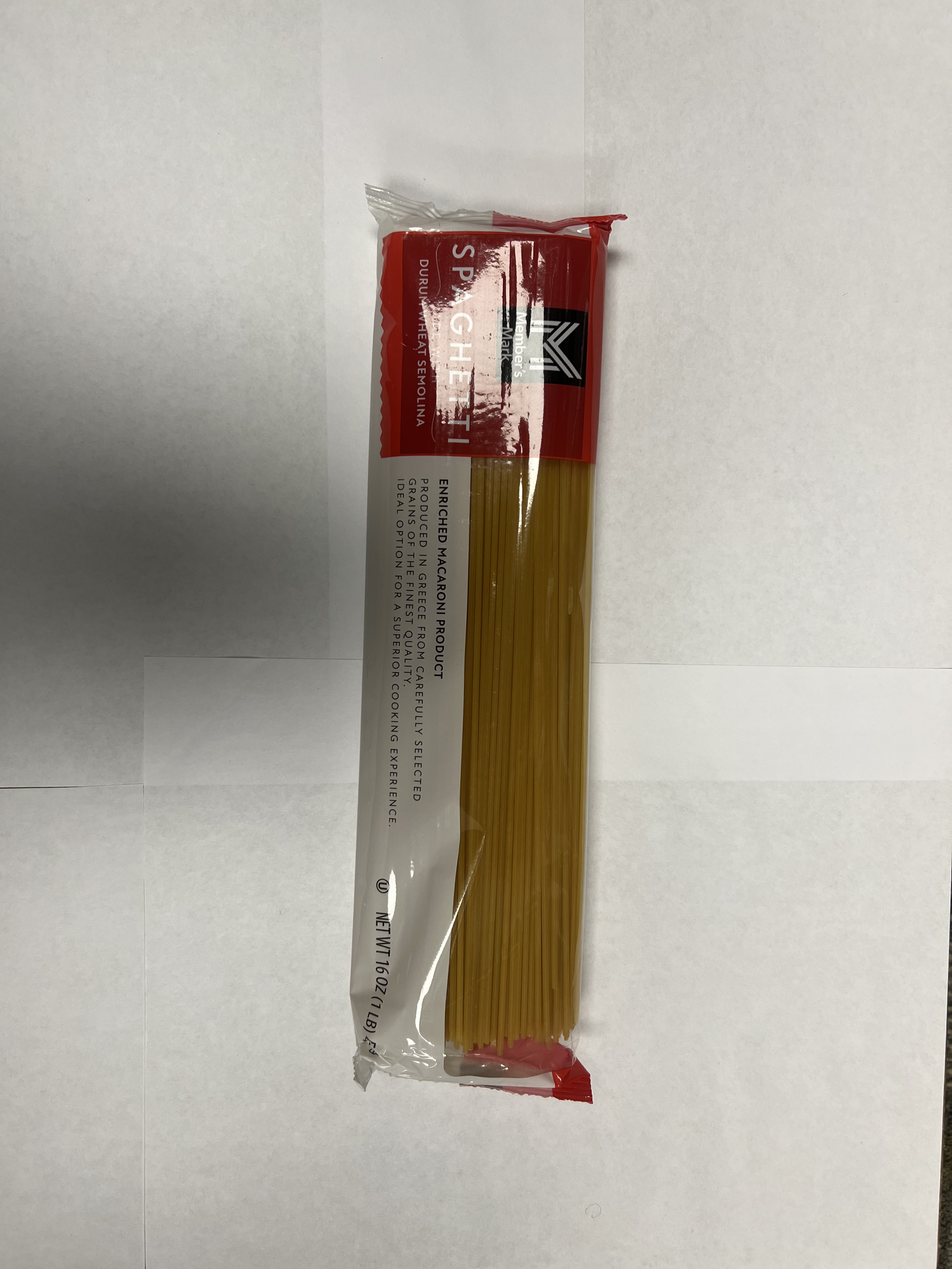packaged: (346, 184, 632, 1106)
